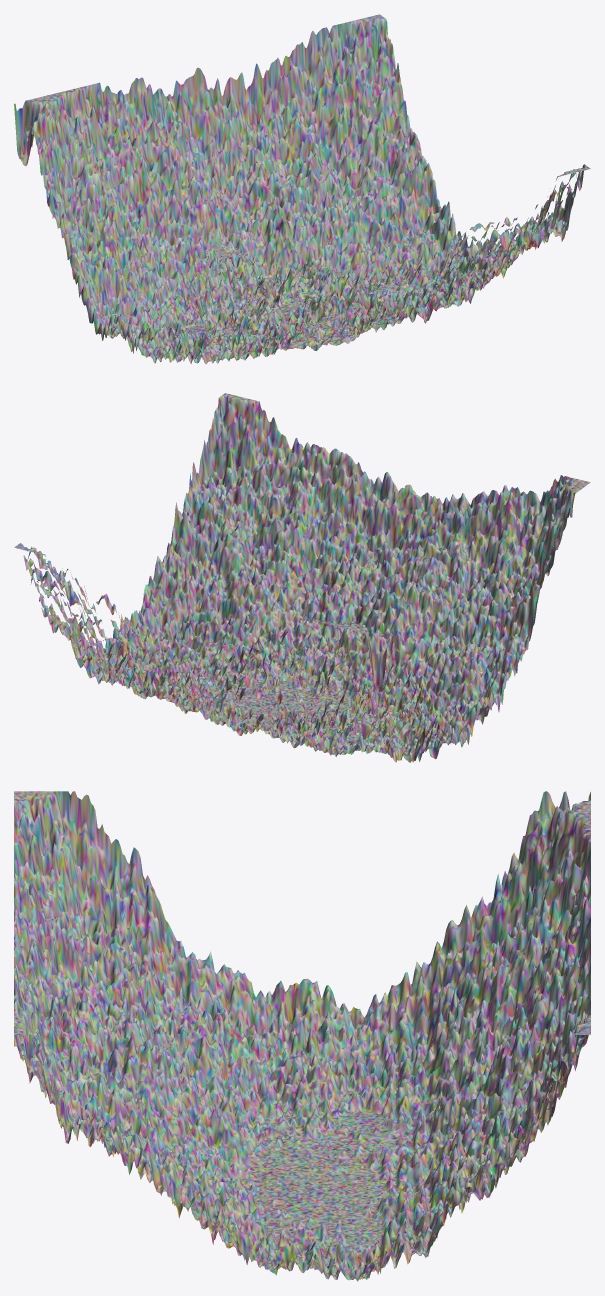
The model's file is dsm_83eafaf16f_mesh.glb.
The picture shows the model from 3 angles, top to bottom: view 1: azimuth 30°, elevation 25°; view 2: azimuth 150°, elevation 25°; view 3: azimuth 270°, elevation 25°; orthographic projection. The views are drawn at different scales.
Parts seen in each view (by area): view 1: geometry_0; view 2: geometry_0; view 3: geometry_0.
Boxes of the visible parts, x1=… form: geometry_0: x1=14, y1=14, x2=590, y2=364; geometry_0: x1=14, y1=393, x2=590, y2=762; geometry_0: x1=14, y1=791, x2=590, y2=1281.
Size of the model in its own units: 2 by 1 by 2.
